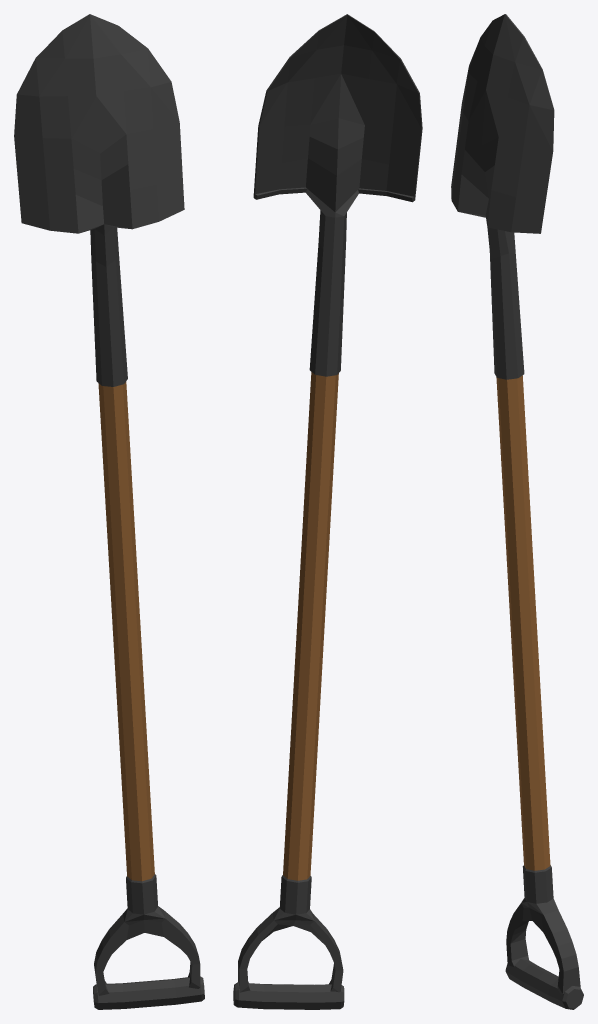
The model's file is Shovel_ML.glb.
3 renders of one model, left to right at view 1: azimuth 30°, elevation 25°; view 2: azimuth 210°, elevation 25°; view 3: azimuth 330°, elevation 25°, orthographic. The views are drawn at different scales.
Parts seen in each view (by area): view 1: shovel; view 2: shovel; view 3: shovel.
Boxes of the visible parts, x1,y1,x2,y2 form: shovel: (14,14,204,1009); shovel: (233,14,422,1009); shovel: (451,14,583,1009).
Size of the model in its own units: 0.3043 by 1.82 by 0.1642.
1 material, 1 textured.
